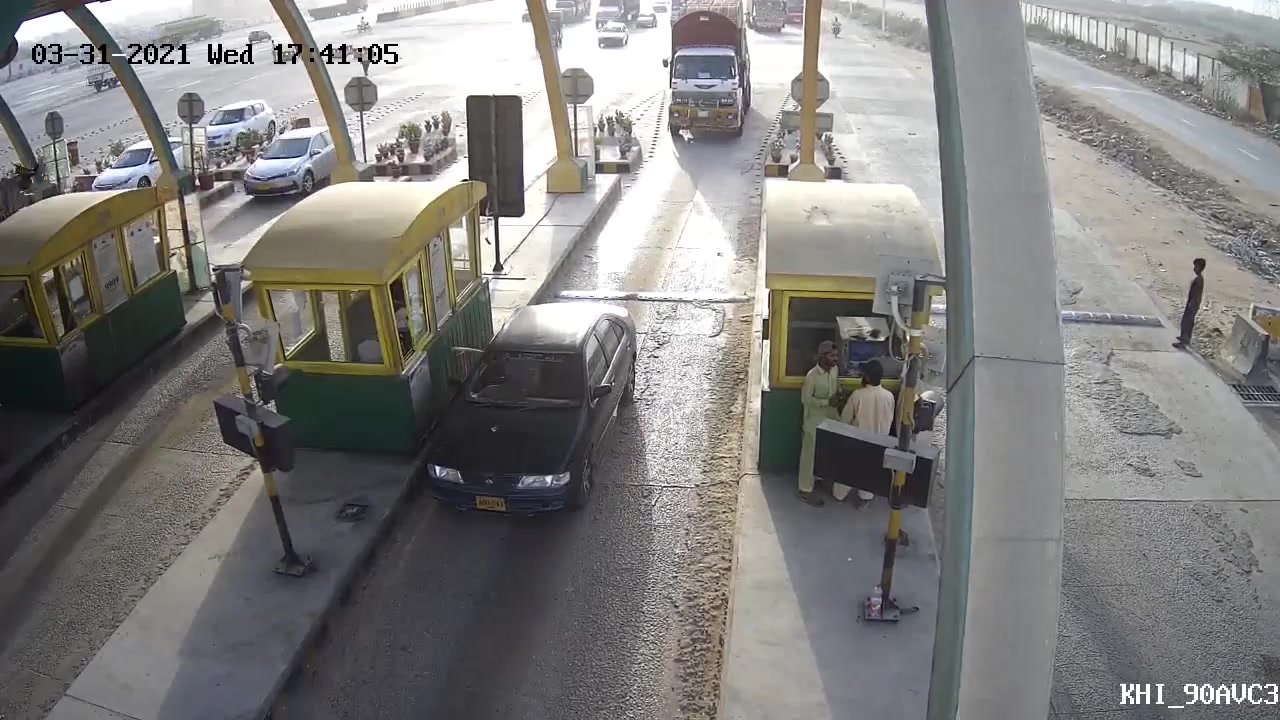F1: (405, 300, 639, 549)
